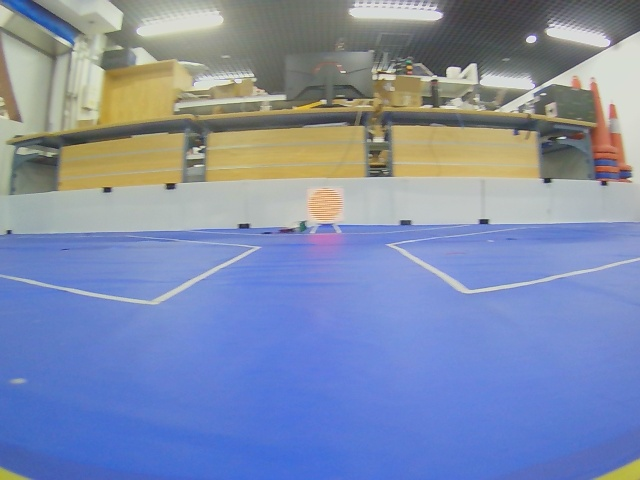red: (307, 188, 344, 224)
